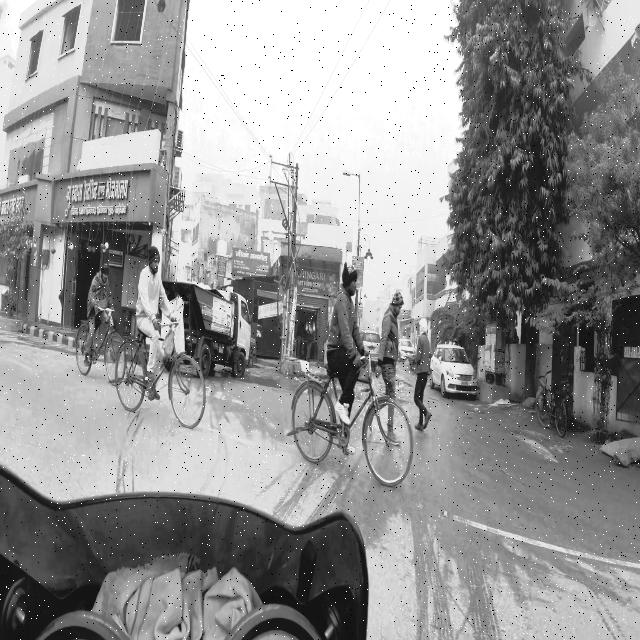Car: (428, 338, 482, 405)
LCV: (172, 269, 257, 389)
